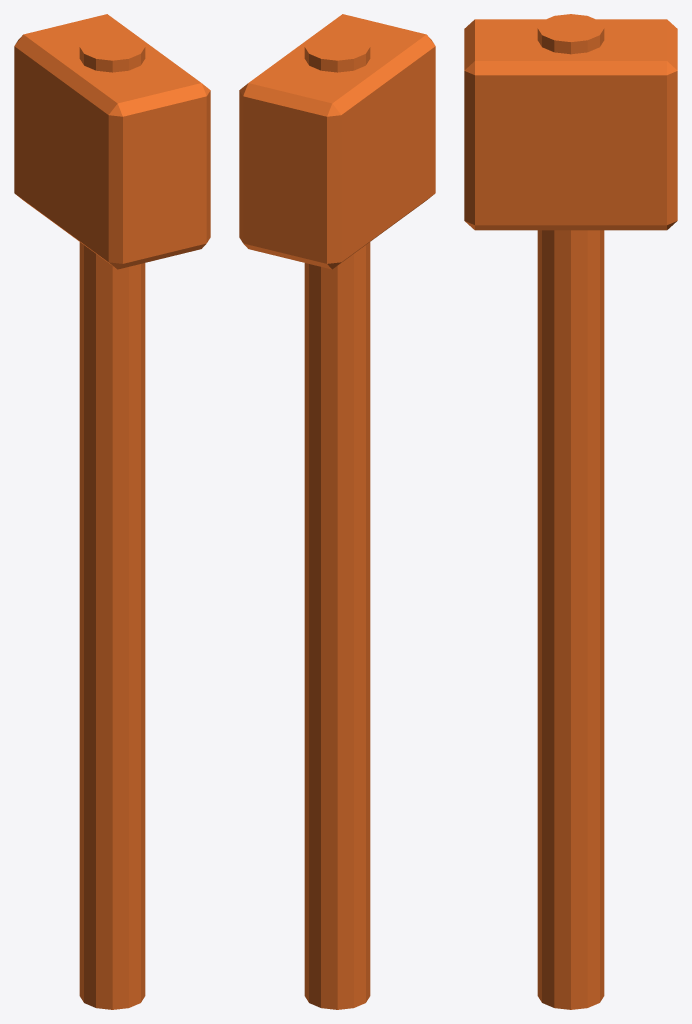
Rendered from SM_MP_Power_CableMarker.fbx.
3 renders of one model, left to right at view 1: azimuth 30°, elevation 25°; view 2: azimuth 150°, elevation 25°; view 3: azimuth 270°, elevation 25°, orthographic.
Parts seen in each view (by area): view 1: SM_MP_Power_CableMarker; view 2: SM_MP_Power_CableMarker; view 3: SM_MP_Power_CableMarker.
Part boxes in pixels (bbox=[...]): SM_MP_Power_CableMarker: bbox=[14, 14, 210, 1009]; SM_MP_Power_CableMarker: bbox=[239, 14, 435, 1009]; SM_MP_Power_CableMarker: bbox=[464, 14, 677, 1009].
Size of the model in its own units: 9 by 16 by 80.
